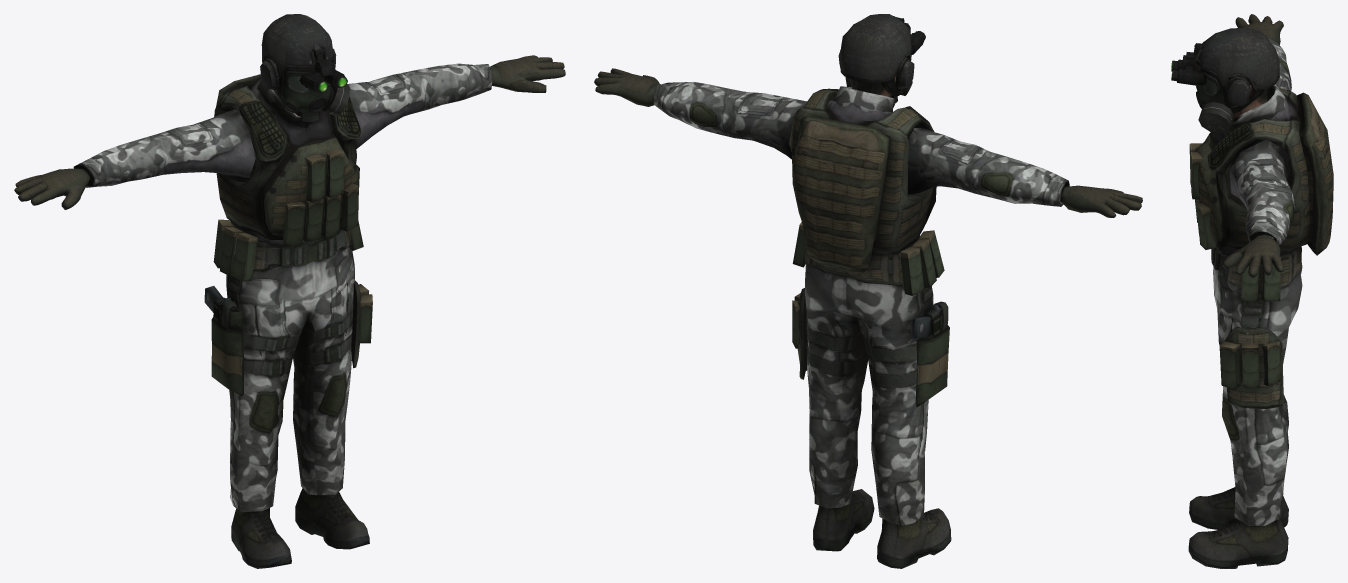
File: marine.fbx
3 renders of one model, left to right at view 1: azimuth 30°, elevation 25°; view 2: azimuth 150°, elevation 25°; view 3: azimuth 270°, elevation 25°, orthographic. The views are drawn at different scales.
Visible parts, largest first — view 1: Legs, body_geo, Helmet, Gas_Mask, Air_Purifier, Byna; view 2: Legs, body_geo, Helmet; view 3: Legs, body_geo, Helmet, Air_Purifier, Byna, Ear_Gloves, Gas_Mask, Human_haed_part, Byna_Joint, Helmet_knot, Eye_Protector.
Part boxes in pixels (x1,y1,x2,y2): Legs: (204, 219, 372, 568); body_geo: (14, 55, 565, 245); Helmet: (261, 14, 333, 76); Gas_Mask: (282, 67, 333, 112); Air_Purifier: (300, 84, 349, 121); Byna: (299, 69, 347, 92); Legs: (792, 222, 951, 568); body_geo: (594, 68, 1142, 273); Helmet: (840, 14, 911, 82); Legs: (1188, 246, 1302, 568); body_geo: (1189, 14, 1333, 277); Helmet: (1196, 27, 1279, 90); Air_Purifier: (1198, 102, 1233, 133); Byna: (1171, 59, 1204, 85); Ear_Gloves: (1227, 76, 1250, 105); Gas_Mask: (1196, 68, 1232, 108); Human_haed_part: (1229, 77, 1268, 119); Byna_Joint: (1182, 43, 1202, 70); Helmet_knot: (1222, 84, 1261, 113); Eye_Protector: (1202, 72, 1219, 95).
Bounding box in the file's own units: 159 × 148 × 42.32.
